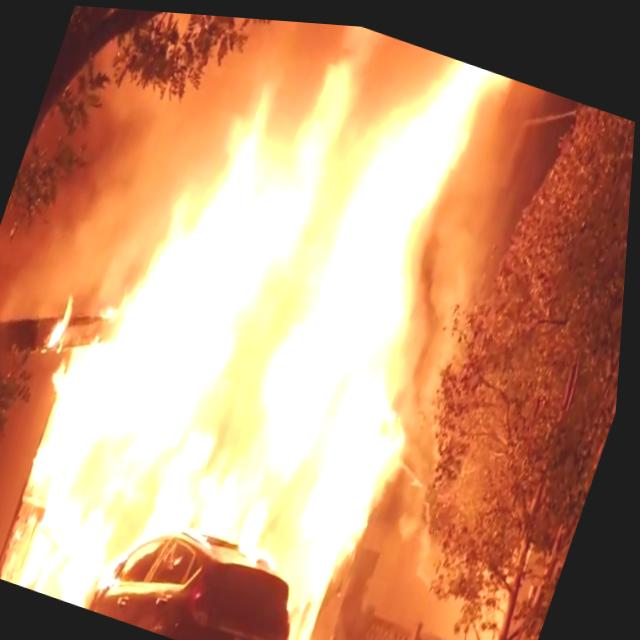fire: (32, 89, 473, 600), (140, 10, 511, 606), (19, 304, 183, 611)
smoke: (0, 43, 166, 324)
